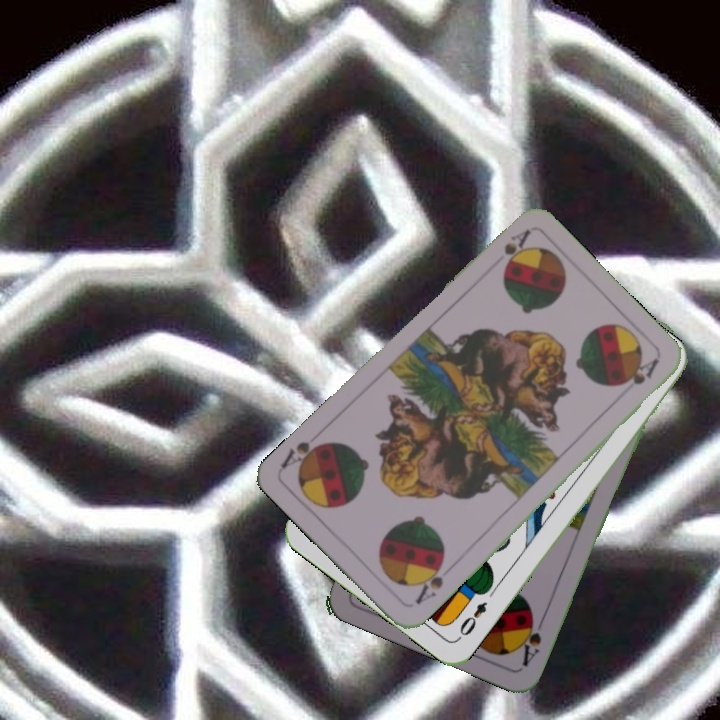EO: (453, 597, 490, 643)
SA: (514, 609, 548, 669), (410, 556, 447, 607), (499, 225, 533, 274)
